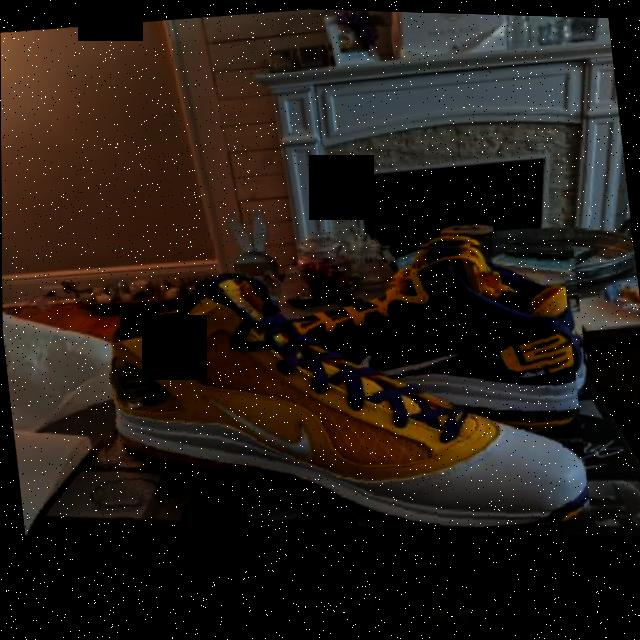shoe: (78, 246, 590, 566), (298, 219, 587, 402)
